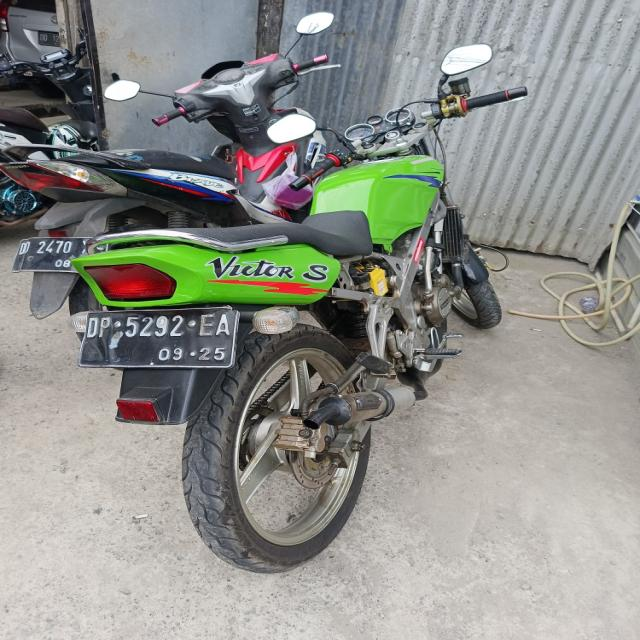plates: (73, 308, 241, 374)
